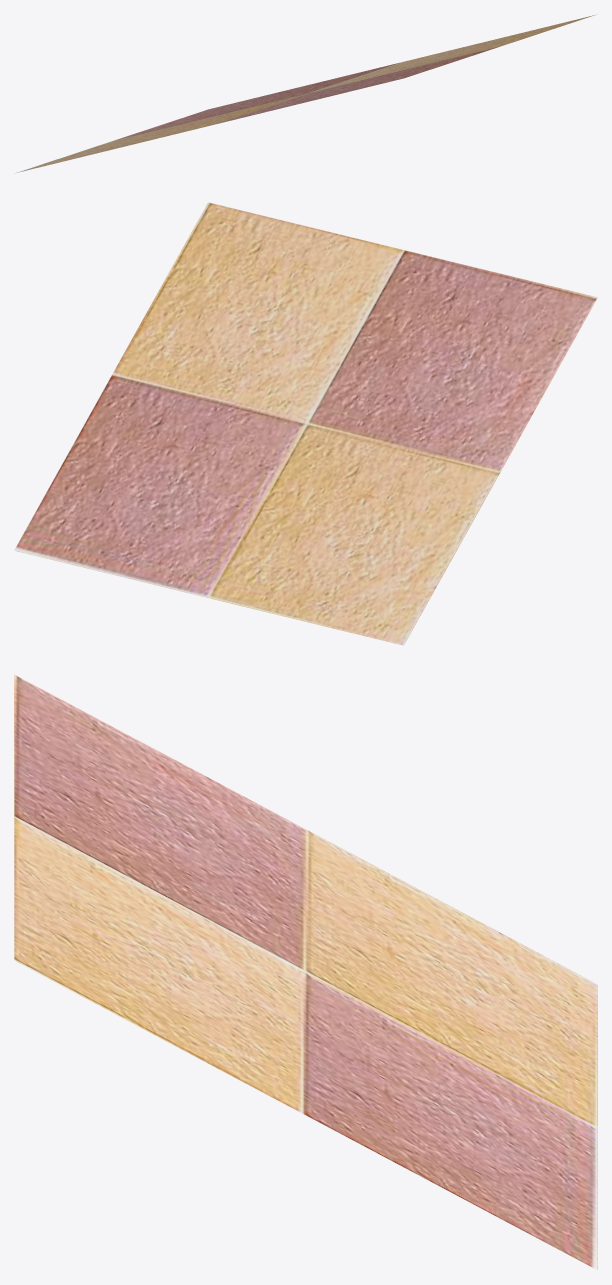
File: suelo.fbx
The picture shows the model from 3 angles, top to bottom: view 1: azimuth 30°, elevation 25°; view 2: azimuth 150°, elevation 25°; view 3: azimuth 270°, elevation 25°; orthographic projection. The views are drawn at different scales.
Visible parts, largest first — view 1: SUELO1; view 2: SUELO1; view 3: SUELO1.
Boxes of the visible parts, x1,y1,x2,y2 form: SUELO1: (15,14,596,173); SUELO1: (14,202,597,645); SUELO1: (14,674,597,1270).
Bounding box in the file's own units: 277 × 140 × 239.
1 material, 1 textured.
